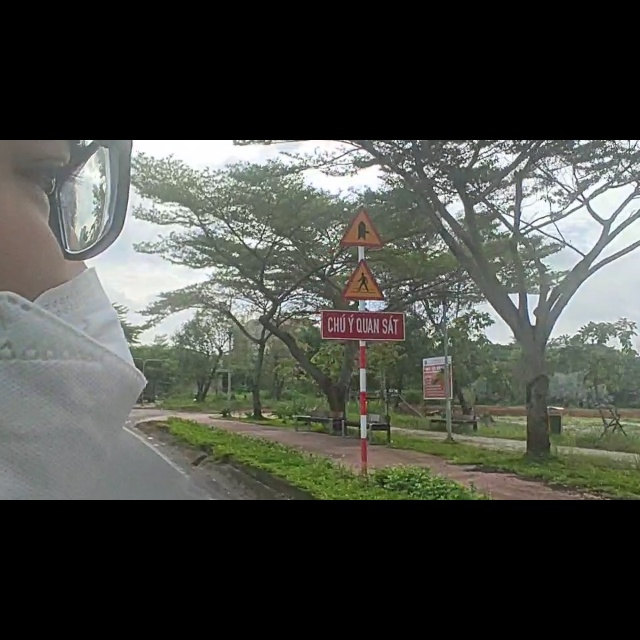bien_nguy_hiem: (336, 207, 391, 288), (337, 114, 389, 193)
